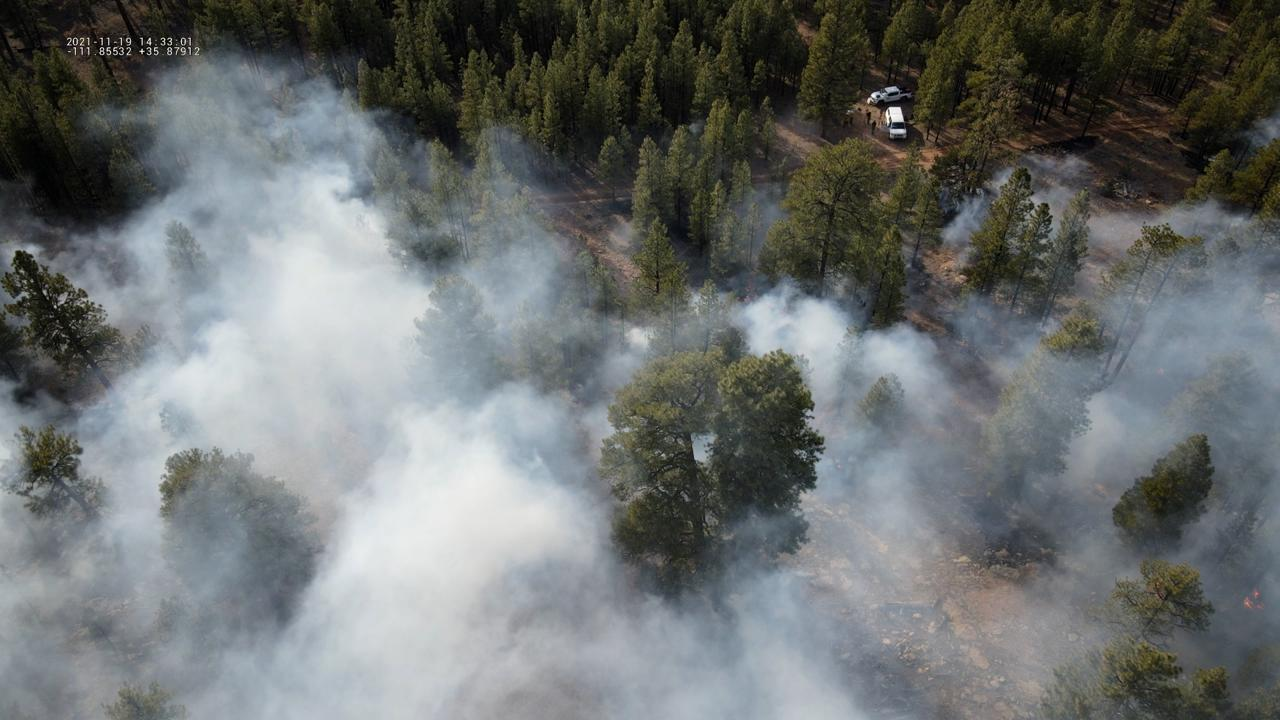fire: (1243, 589, 1265, 611)
smoke: (0, 46, 1280, 720)
